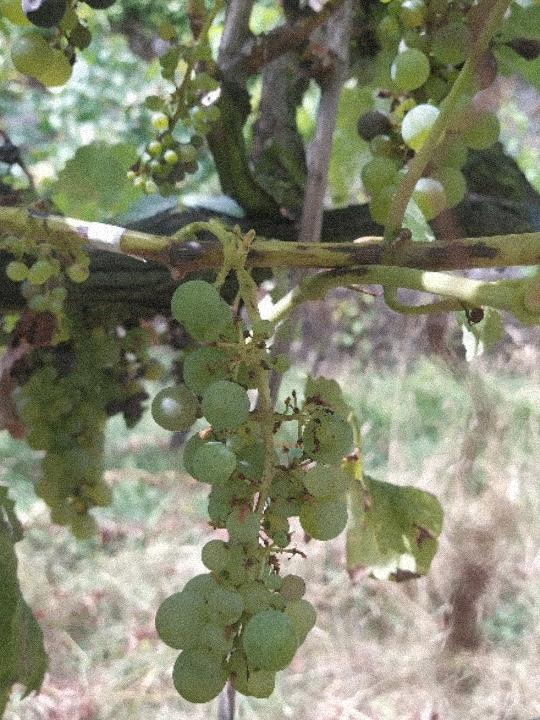grape: (145, 278, 357, 707)
